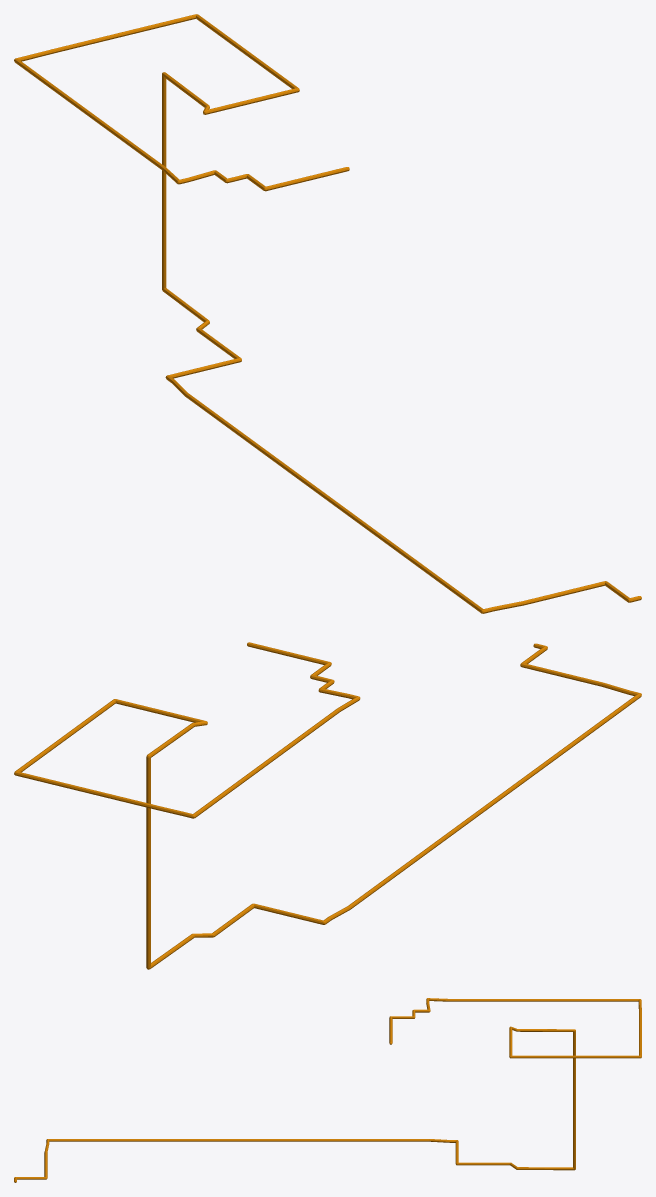
3 views of the same model, one above another, from view 1: azimuth 30°, elevation 25°; view 2: azimuth 150°, elevation 25°; view 3: azimuth 270°, elevation 25° (orthographic). The views are drawn at different scales.
Bounding box in the file's own units: 912 × 1020 × 4120.
